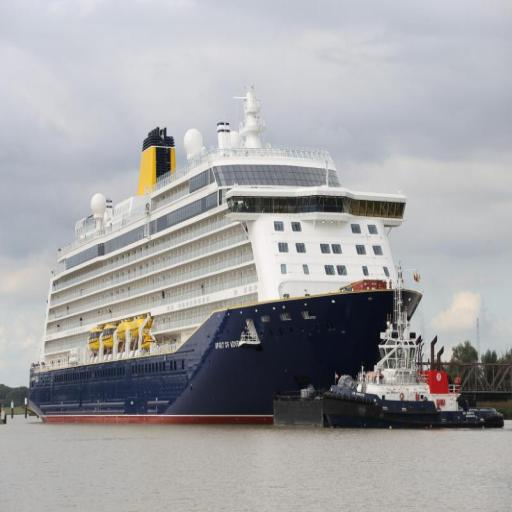cruises: (24, 80, 427, 431)
